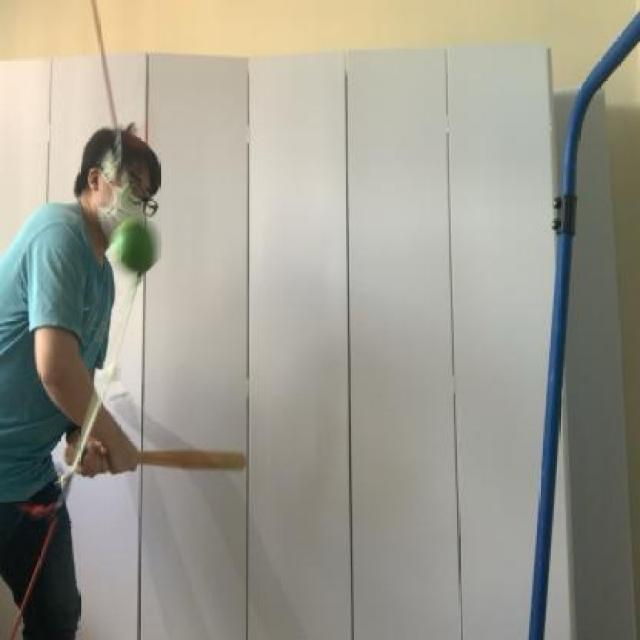baseball: (101, 201, 173, 287)
